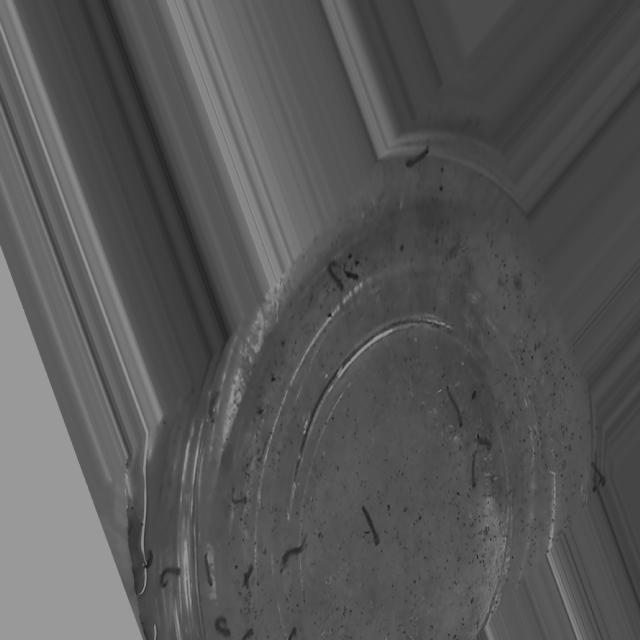larvas: (280, 529, 308, 570), (447, 386, 463, 429), (362, 508, 379, 545), (404, 143, 427, 168), (328, 258, 343, 296), (160, 562, 180, 588), (208, 388, 221, 422), (215, 616, 232, 636), (592, 463, 606, 486), (204, 553, 213, 586), (230, 490, 247, 507), (240, 566, 256, 584), (472, 447, 479, 487), (478, 435, 494, 451), (285, 621, 298, 640), (239, 624, 254, 640)
